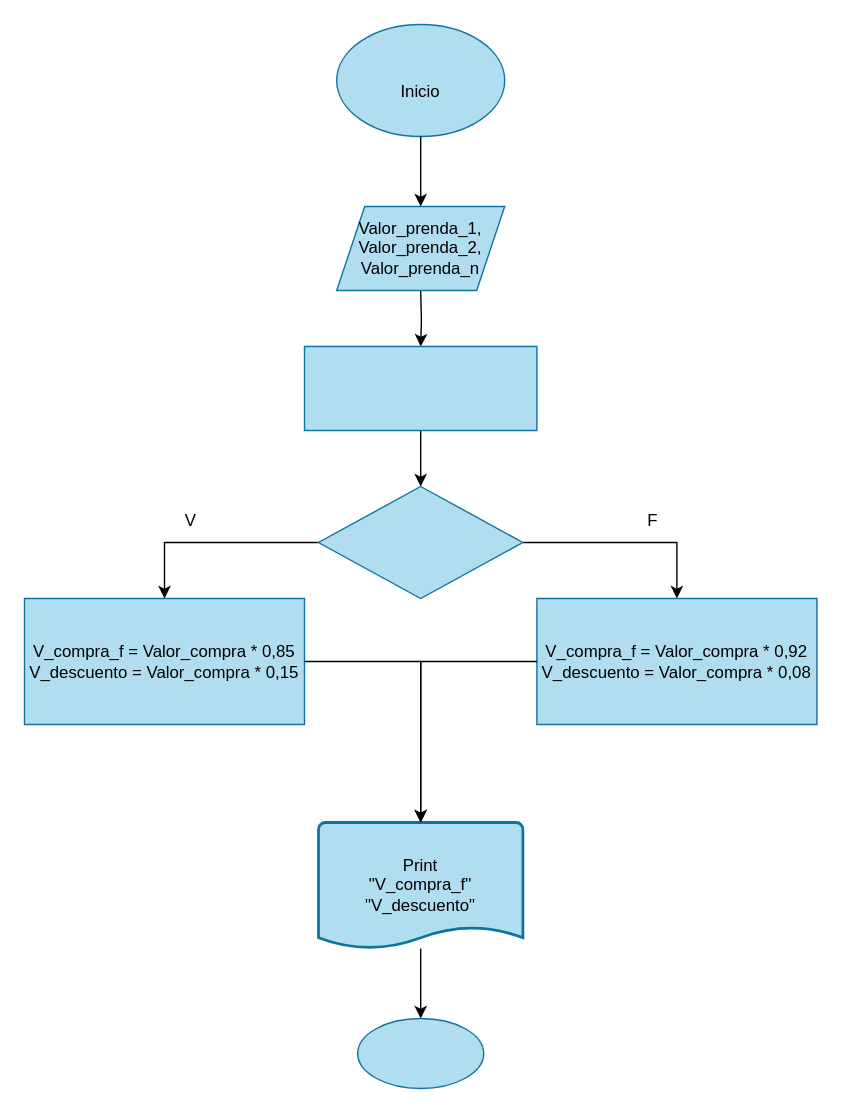
Some shapes in this 841 by 1113 pixel diagram are drawn without their labels. The centre of each missing label's shape, as x and y in pixels:
Fin: (420,1052)
Valor_compra = Valor_prenda_1 + .... Valor_prenda_n: (420,387)
Valor_compra > 250000: (420,541)
